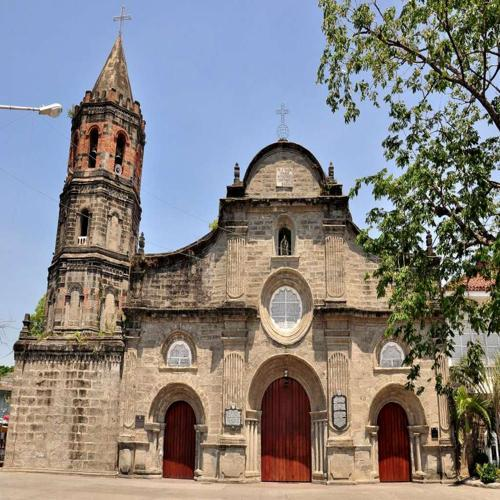Barasoain Church: (11, 2, 455, 486)
